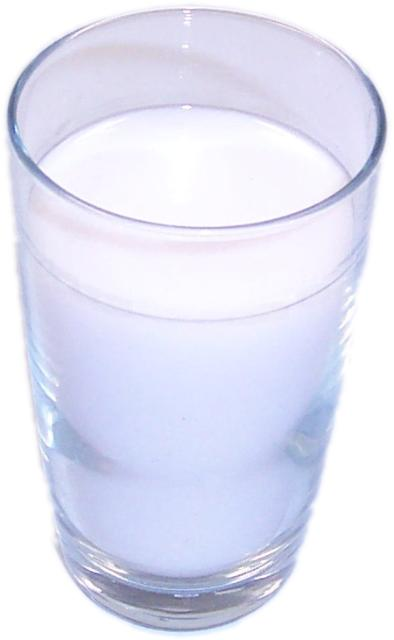glass of milk: (33, 48, 318, 617)
